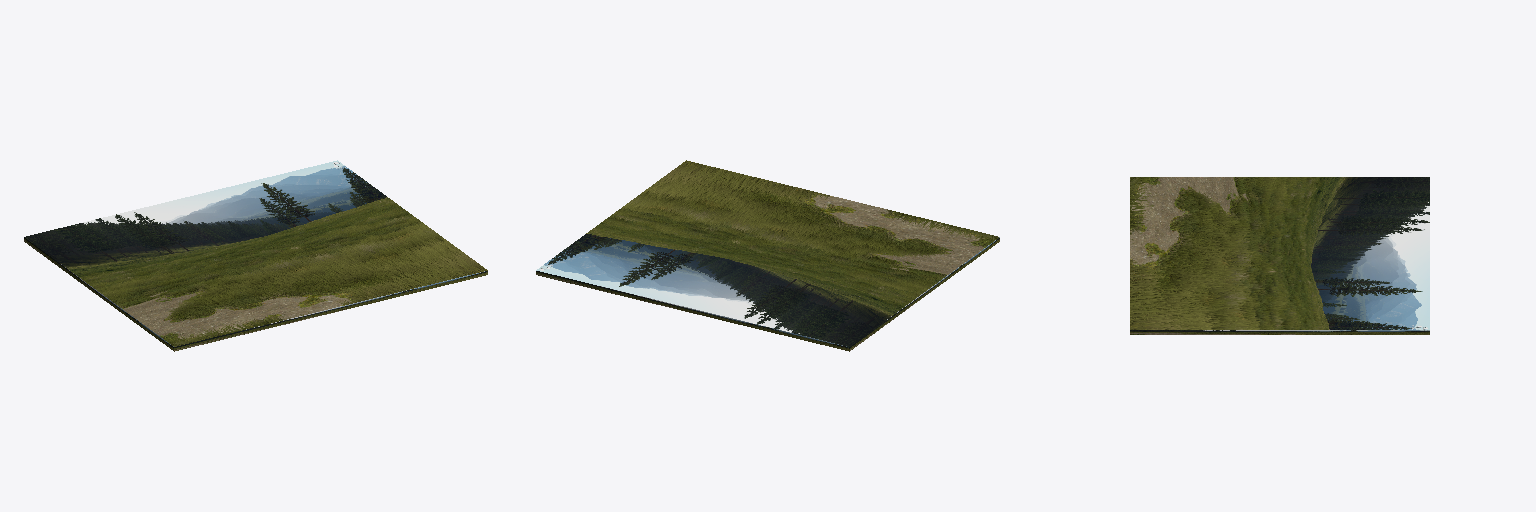
3 views of the same model, side by side, from view 1: azimuth 30°, elevation 25°; view 2: azimuth 150°, elevation 25°; view 3: azimuth 270°, elevation 25° (orthographic).
Visible parts, largest first — view 1: Box008; view 2: Box008; view 3: Box008.
Boxes of the visible parts, <box> form: Box008: <box>24,160,487,351</box>; Box008: <box>536,160,999,351</box>; Box008: <box>1130,177,1429,334</box>.
Size of the model in its own units: 20.95 by 0.2938 by 17.39.
Materials: 1 (1 with a texture image).